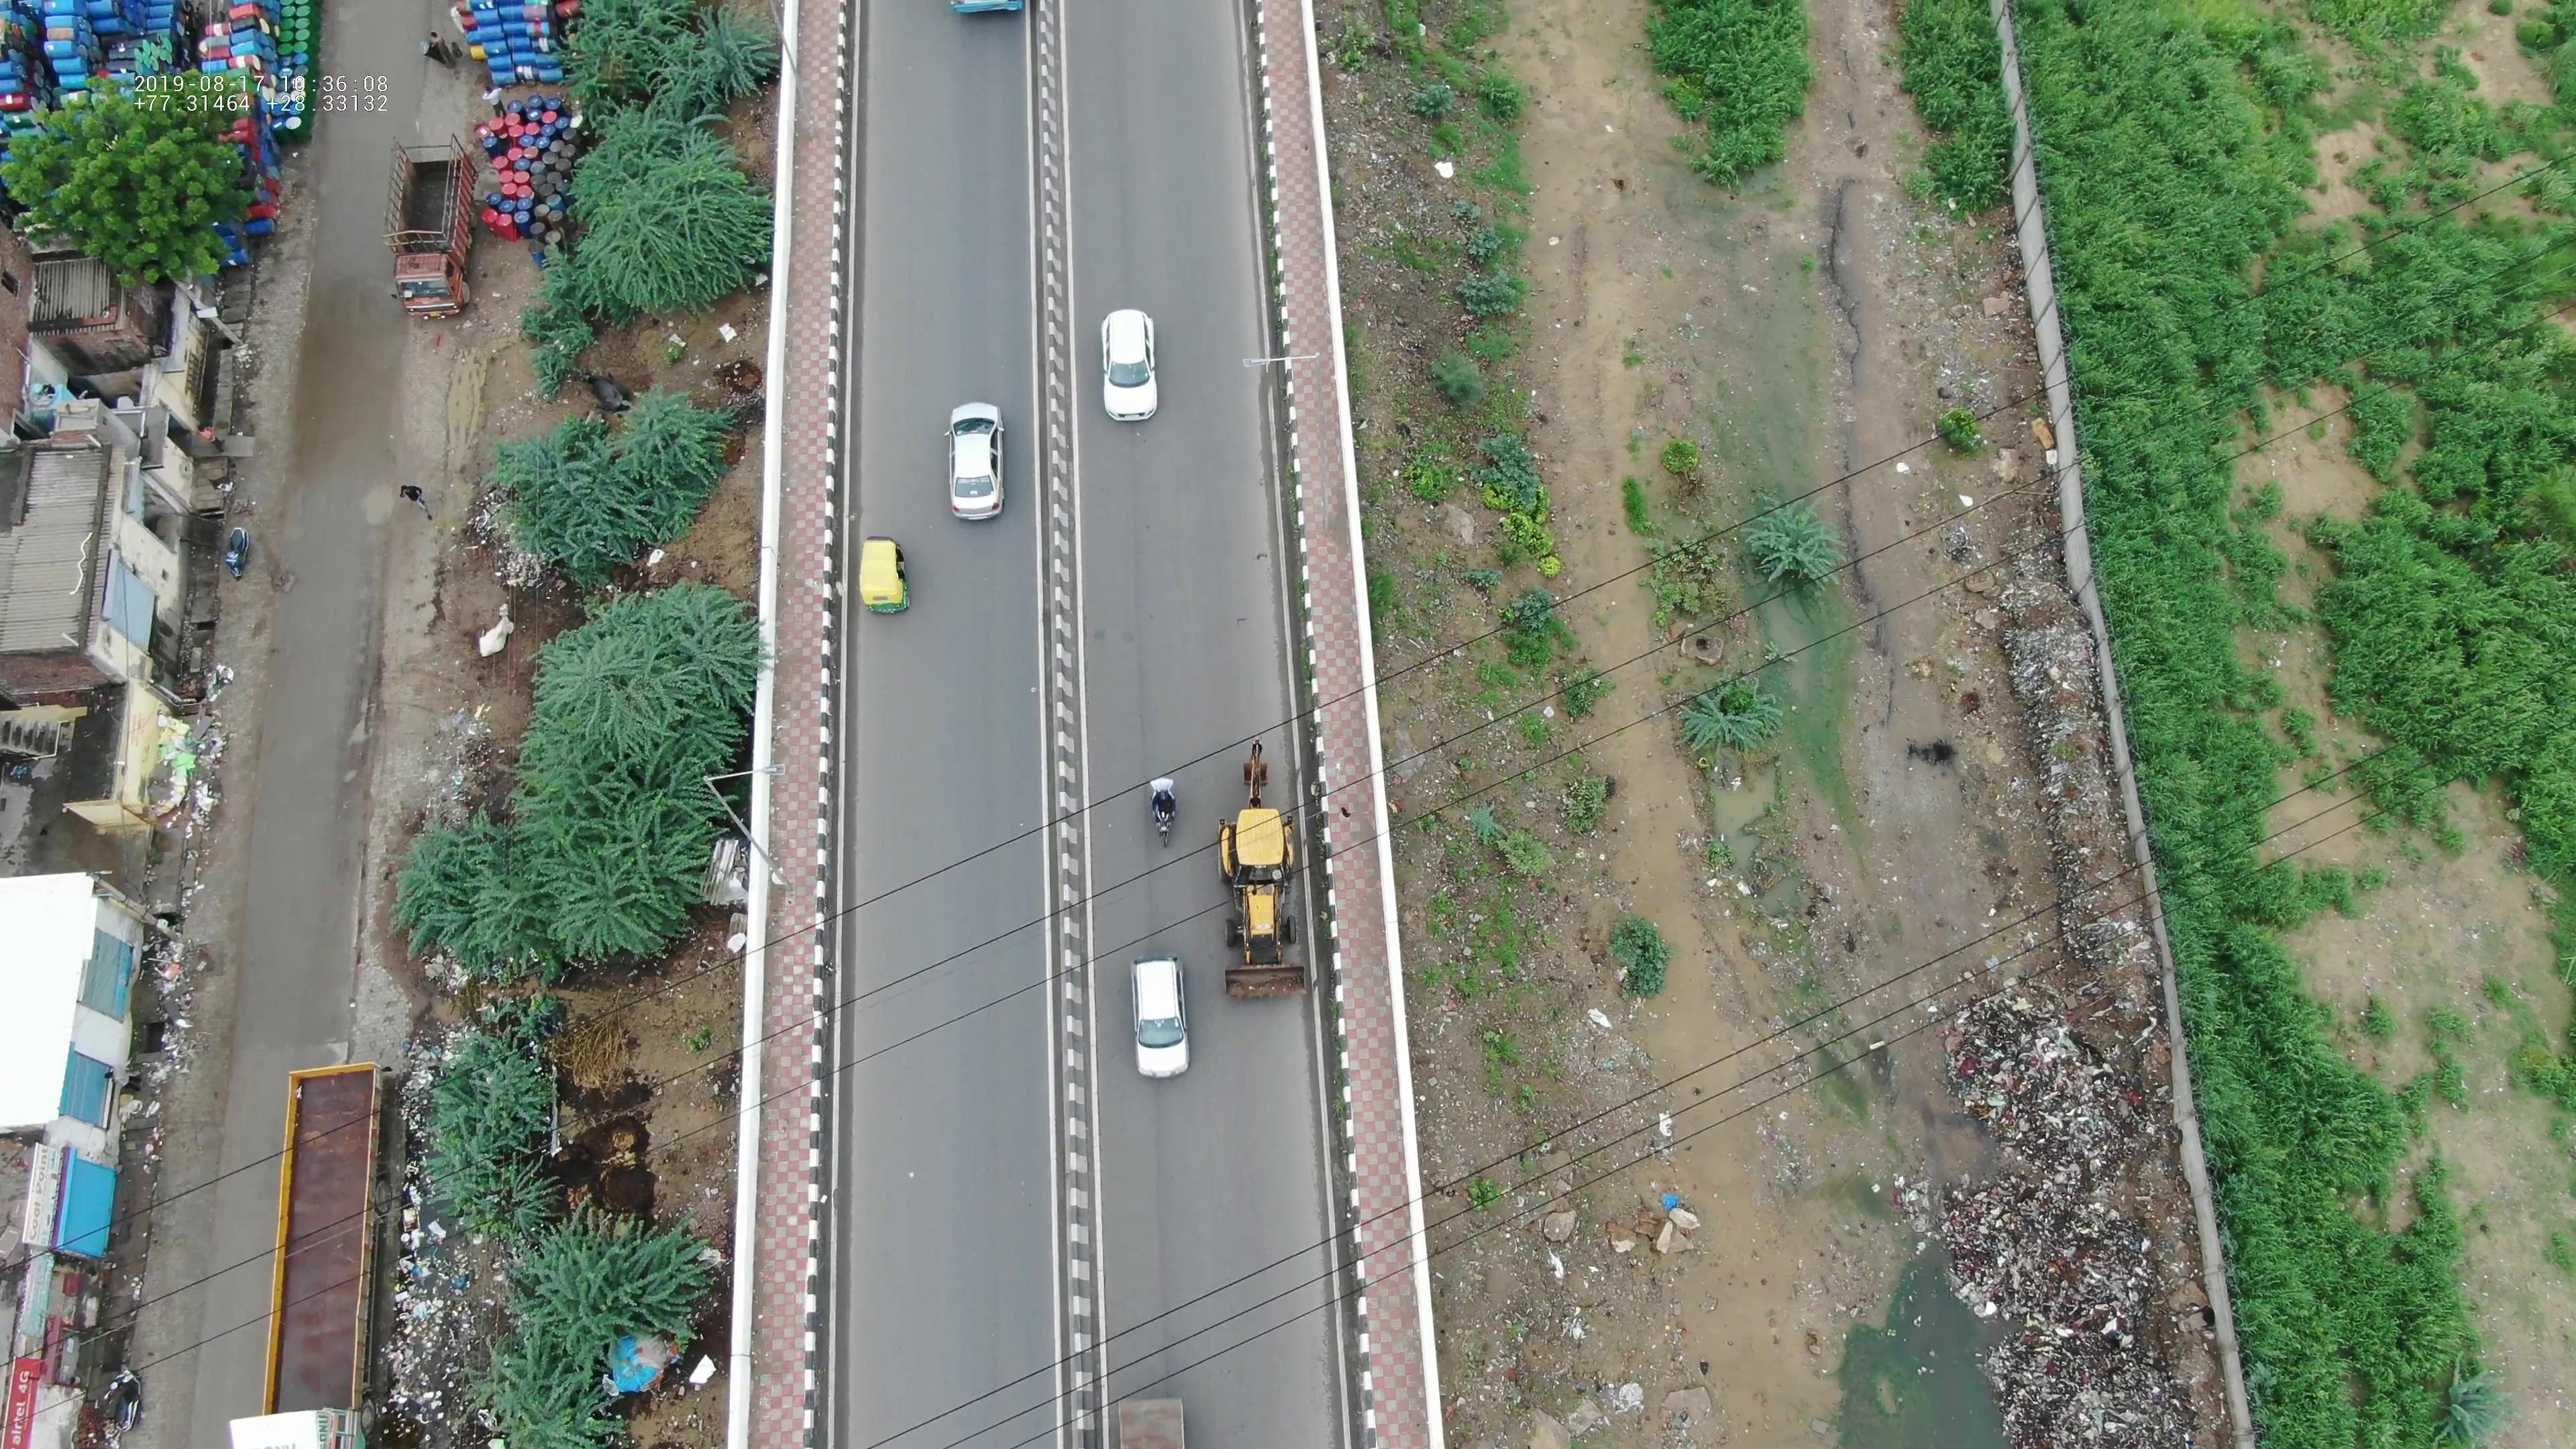Road_side_garbage: (1891, 959, 2192, 1444), (1996, 554, 2120, 943), (373, 1120, 492, 1410)
